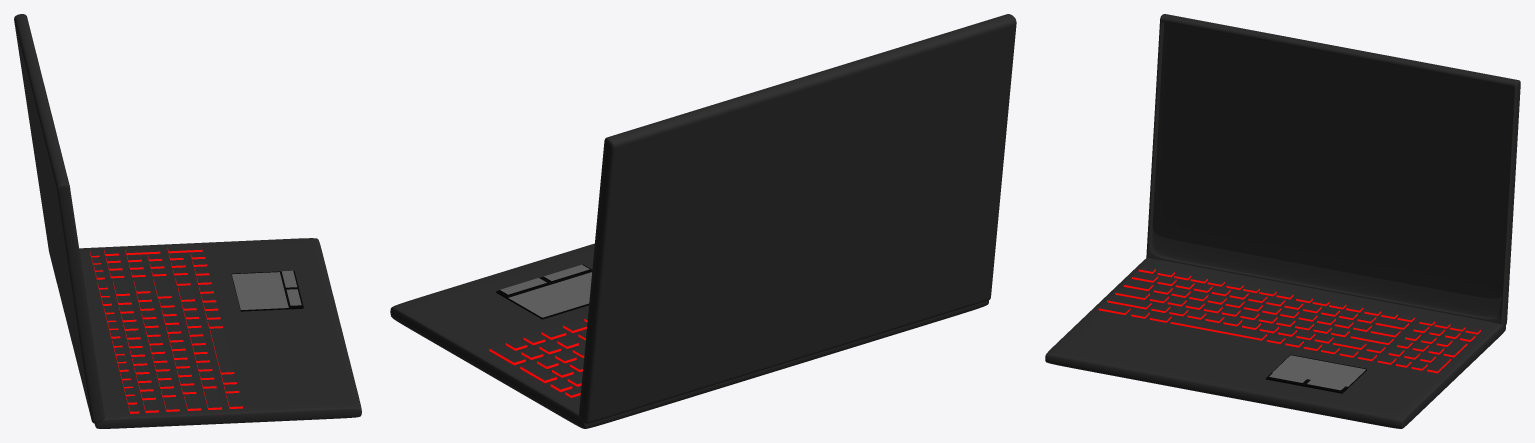
File: laptop.glb
3 views of the same model, side by side, from view 1: azimuth 30°, elevation 25°; view 2: azimuth 150°, elevation 25°; view 3: azimuth 270°, elevation 25° (orthographic). The views are drawn at different scales.
Parts seen in each view (by area): view 1: laptop; view 2: laptop; view 3: laptop.
Part boxes in pixels (bbox=[...]): laptop: bbox=[14, 14, 361, 428]; laptop: bbox=[390, 14, 1016, 428]; laptop: bbox=[1045, 14, 1520, 428].
Bounding box in the file's own units: 0.9095 × 0.562 × 1.01.
